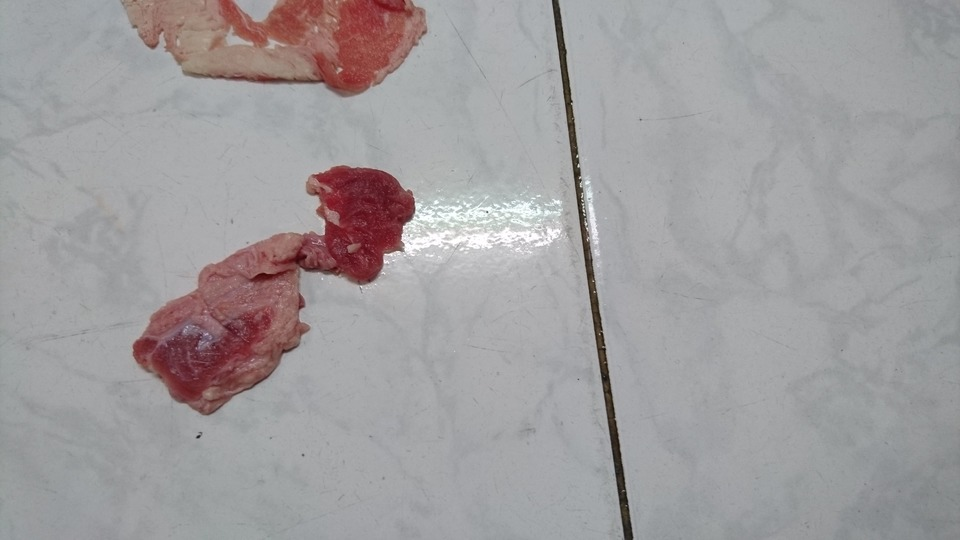restructured meat: (138, 165, 412, 415)
